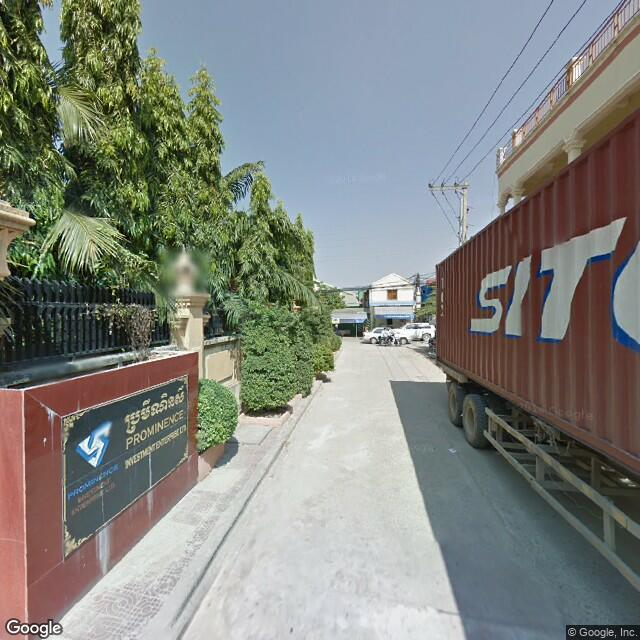litter: (438, 440, 459, 459)
